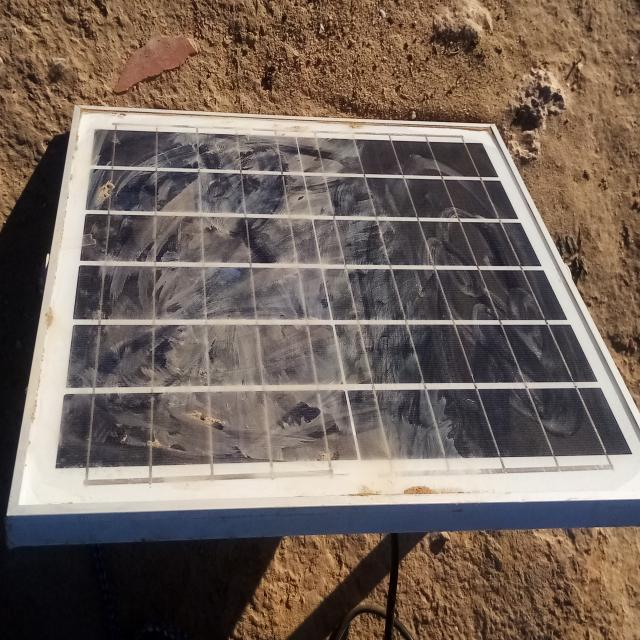faulty: (8, 109, 640, 517)
